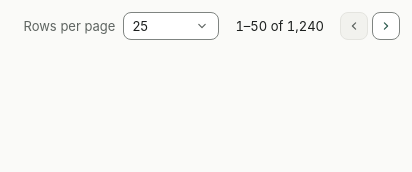
Test: QPagination › shows a rows-per-page select with page-size options, unless showPageSize is false
The width and height of the screenshot is (412, 172).
Check: the label "Rows per page" is shown, box [24, 17, 115, 35]
Select "100" in the dropdown labelled "Rows per page" at point(171, 26), box [124, 13, 218, 39]
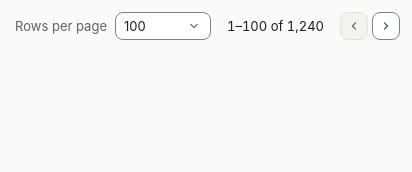
Check: the text "1–100 of 1,240" is shown, box [227, 17, 324, 35]
